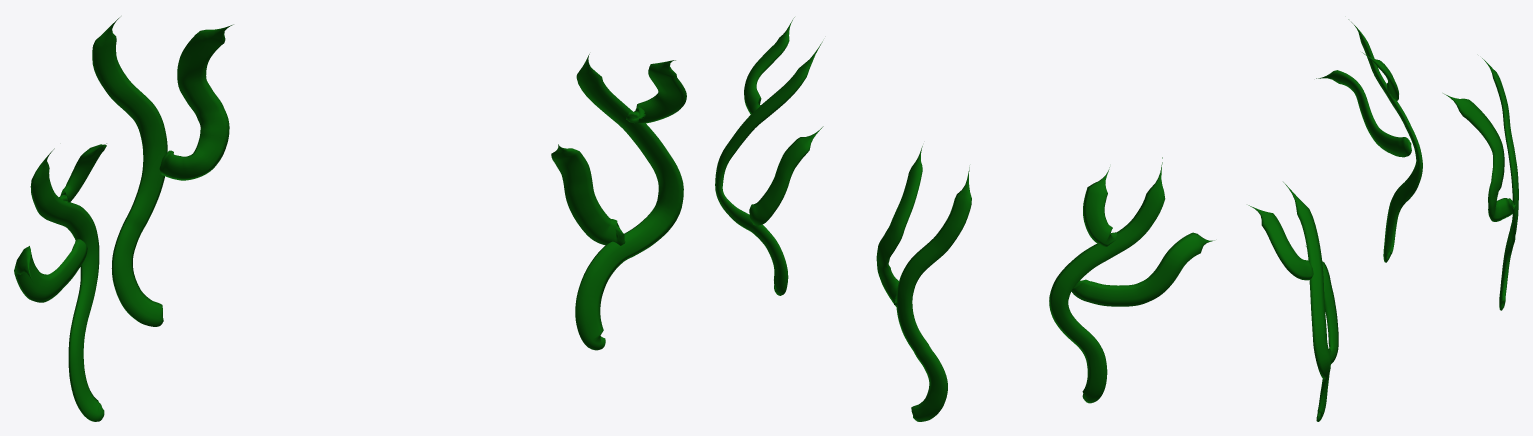
File: tbtr_reefs.gltf
3 renders of one model, left to right at view 1: azimuth 30°, elevation 25°; view 2: azimuth 150°, elevation 25°; view 3: azimuth 270°, elevation 25°, orthographic. The views are drawn at different scales.
Parts seen in each view (by area): view 1: Paint.002, Paint, Paint.001; view 2: Paint.001, Paint, Paint.002; view 3: Paint.002, Paint.001, Paint.
Part boxes in pixels (left/top/right/bottom): Paint.002: left=551, top=54, right=686, bottom=350; Paint: left=92, top=17, right=233, bottom=326; Paint.001: left=14, top=143, right=106, bottom=421; Paint.001: left=1049, top=157, right=1214, bottom=403; Paint: left=876, top=146, right=971, bottom=421; Paint.002: left=715, top=17, right=823, bottom=295; Paint.002: left=1248, top=182, right=1338, bottom=421; Paint.001: left=1316, top=19, right=1422, bottom=262; Paint: left=1443, top=58, right=1518, bottom=310.
Size of the model in its own units: 4.04 by 2.04 by 2.09.
